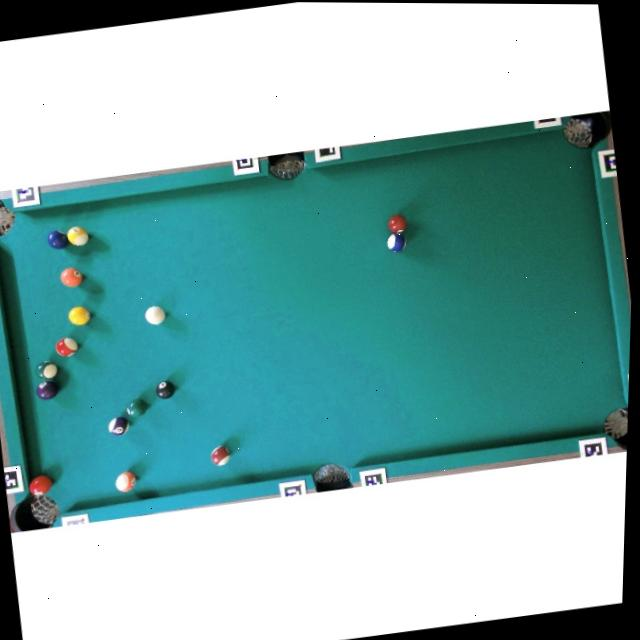cue ball: (143, 303, 169, 326)
other: (27, 473, 55, 498), (66, 304, 93, 328), (34, 378, 61, 401), (113, 470, 138, 494), (59, 266, 84, 289), (66, 224, 90, 247), (55, 336, 80, 358), (46, 228, 70, 250), (386, 213, 409, 235), (210, 444, 232, 467), (107, 416, 131, 437), (35, 360, 59, 381), (126, 397, 149, 418), (386, 231, 407, 253), (155, 380, 176, 400)
